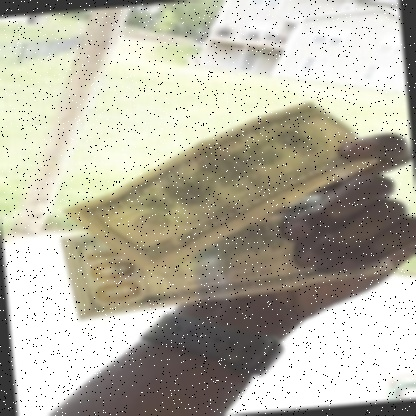one_hundred-back: (66, 95, 386, 275)
